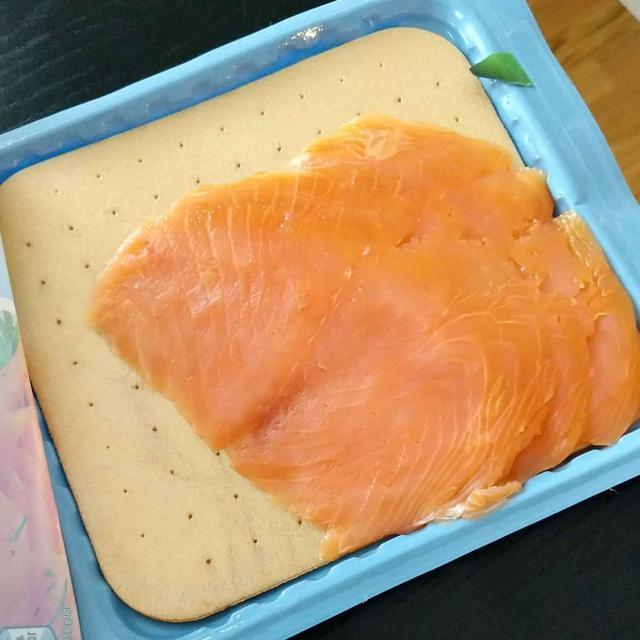salmon: (105, 117, 634, 578)
